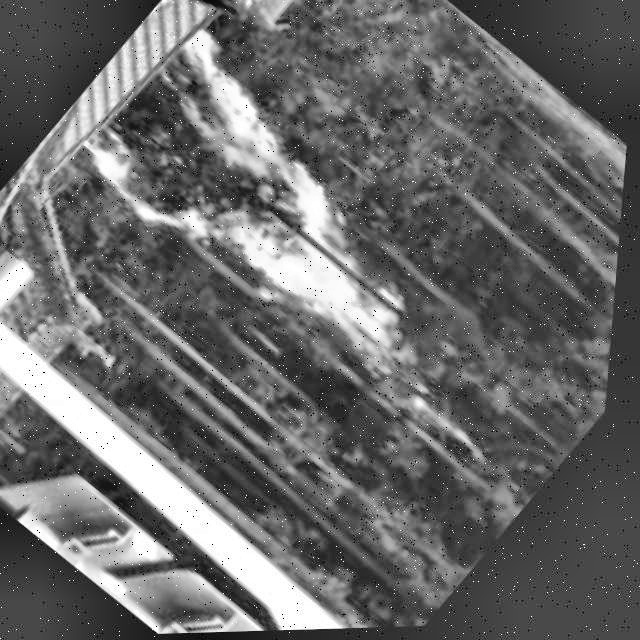Fire: (61, 25, 494, 406)
